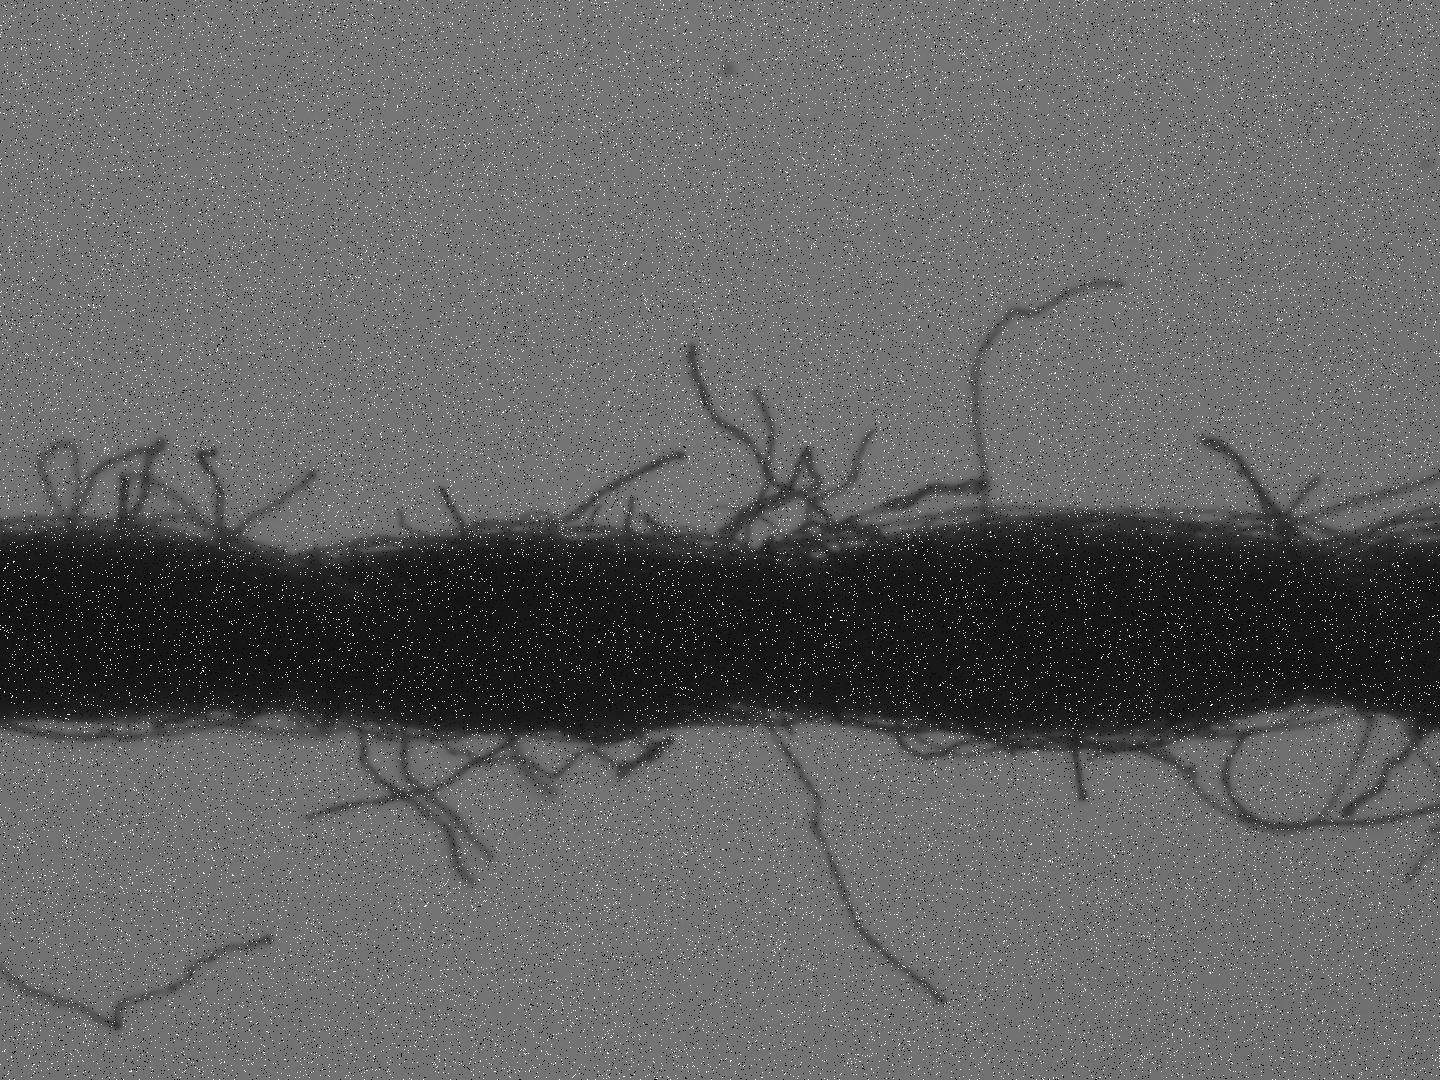loop_fiber: (433, 732, 662, 779), (68, 438, 162, 542), (8, 712, 245, 753), (39, 518, 271, 557), (1017, 716, 1223, 758), (513, 525, 740, 558), (1184, 512, 1367, 551), (1151, 706, 1359, 740), (32, 437, 82, 542), (888, 723, 1015, 763), (297, 537, 444, 565), (790, 526, 907, 562), (214, 707, 342, 737), (906, 727, 1013, 762), (749, 533, 836, 571), (723, 700, 816, 732), (499, 509, 558, 555), (370, 720, 472, 746), (838, 716, 937, 741), (454, 522, 511, 549), (283, 710, 340, 729)
protruding_fiber: (747, 710, 941, 1006), (972, 278, 1123, 530), (687, 345, 847, 552), (2, 938, 273, 1037), (355, 723, 474, 887), (312, 736, 501, 824), (400, 733, 492, 870), (1200, 431, 1296, 548), (228, 466, 314, 539), (190, 440, 225, 547), (1070, 725, 1091, 805)
